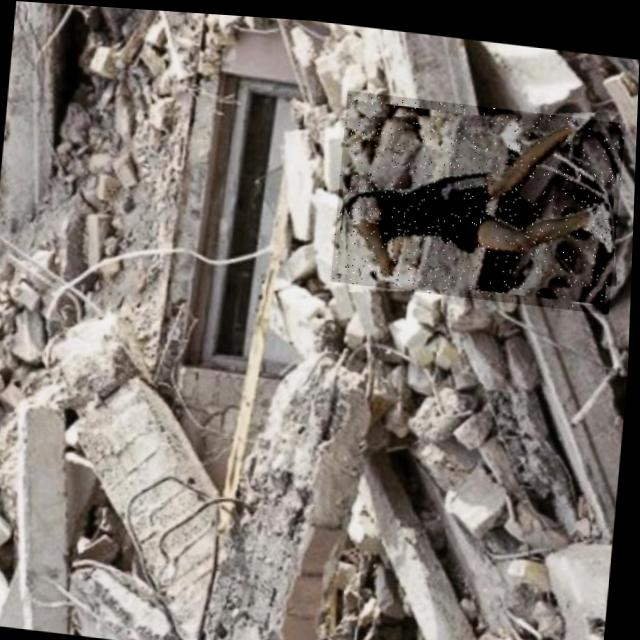Person in Rubble: (332, 84, 627, 305)
